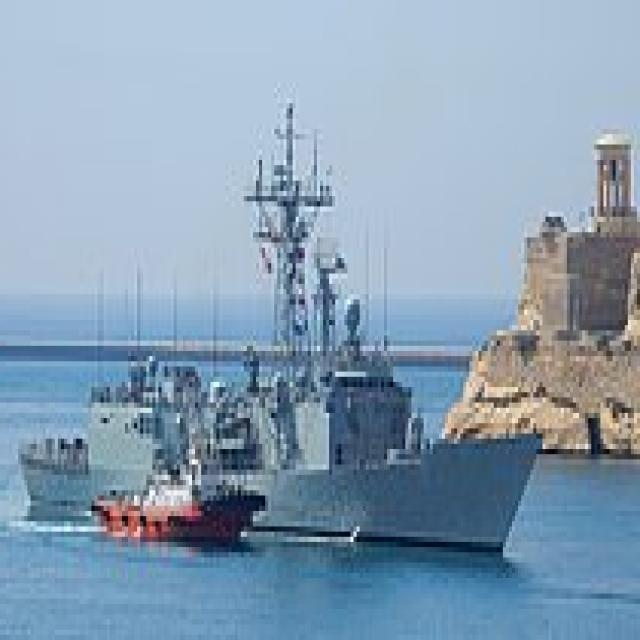Warship: (18, 88, 552, 557)
